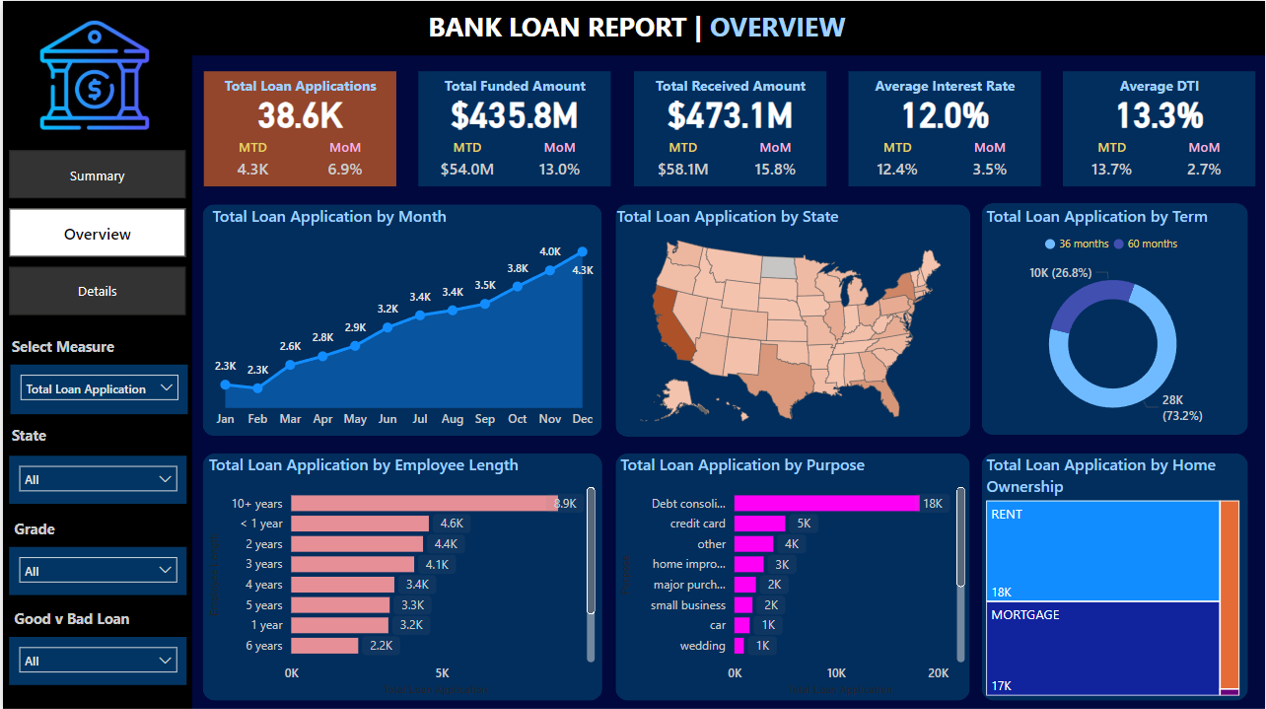

What the dashboard file says about the page in this screenshot:
{"tool":"powerbi","page":{"name":"Overview","canvas":[1280,720],"ordinal":1},"visuals":[{"type":"shape","box":[203.9,71.2,195.4,117],"z":0,"group":"g1"},{"type":"shape","box":[421.7,71.2,195.4,117],"z":0,"group":"g2"},{"type":"shape","box":[639.4,71.2,195.4,117],"z":0,"group":"g3"},{"type":"shape","box":[857.2,71.2,195.4,117],"z":0,"group":"g4"},{"type":"shape","box":[1074.9,71.2,195.4,117],"z":0,"group":"g5"},{"type":"shape","box":[202.7,206.3,405,235],"z":0},{"type":"shape","box":[0,0,1280,55.5],"z":1000},{"type":"card","fields":{"Values":["bank_loan bank_loan_data.Total Loan Application"]},"box":[203.9,85.7,195.4,53.1],"z":1000,"group":"g1"},{"type":"card","fields":{"Values":["bank_loan bank_loan_data.Total Funded Amount"]},"box":[421.7,85.7,195.4,53.1],"z":1000,"group":"g2"},{"type":"card","fields":{"Values":["bank_loan bank_loan_data.Total Amount Received"]},"box":[639.4,85.7,195.4,53.1],"z":1000,"group":"g3"},{"type":"card","fields":{"Values":["bank_loan bank_loan_data.Avg int rate"]},"box":[857.2,85.7,195.4,53.1],"z":1000,"group":"g4"},{"type":"card","fields":{"Values":["bank_loan bank_loan_data.Avg DTI"]},"box":[1074.9,85.7,195.4,53.1],"z":1000,"group":"g5"},{"type":"shape","box":[0,55.5,191.8,664.7],"z":2000},{"type":"textbox","box":[211.1,71.2,181,39.8],"z":2000,"group":"g1"},{"type":"textbox","box":[428.9,71.2,181,39.8],"z":2000,"group":"g2"},{"type":"textbox","box":[646.6,71.2,181,39.8],"z":2000,"group":"g3"},{"type":"textbox","box":[864.4,71.2,181,39.8],"z":2000,"group":"g4"},{"type":"textbox","box":[1082.1,71.2,181,39.8],"z":2000,"group":"g5"},{"type":"textbox","box":[425.9,2.4,447.6,49.5],"z":3000},{"type":"card","title":"MTD","fields":{"Values":["bank_loan bank_loan_data.MTD Loan Application"]},"box":[212.3,138.8,82,49.5],"z":3000,"group":"g1"},{"type":"card","title":"MTD","fields":{"Values":["bank_loan bank_loan_data.MTD Funded Amount"]},"box":[430.1,138.8,82,49.5],"z":3000,"group":"g2"},{"type":"card","title":"MTD","fields":{"Values":["bank_loan bank_loan_data.MTD Received Amount"]},"box":[647.8,138.8,82,49.5],"z":3000,"group":"g3"},{"type":"card","title":"MTD","fields":{"Values":["bank_loan bank_loan_data.MTD Avg int rate"]},"box":[865.6,138.8,82,49.5],"z":3000,"group":"g4"},{"type":"card","title":"MTD","fields":{"Values":["bank_loan bank_loan_data.MTD DTI"]},"box":[1083.3,138.8,82,49.5],"z":3000,"group":"g5"},{"type":"group","id":"g1","title":"Group 1","box":[203.9,71.2,195.4,117],"z":4000},{"type":"card","title":"MoM","fields":{"Values":["bank_loan bank_loan_data.MoM Loan Application"]},"box":[306.4,138.8,82,49.5],"z":4000,"group":"g1"},{"type":"card","title":"MoM","fields":{"Values":["bank_loan bank_loan_data.MoM Funded Apllication"]},"box":[524.2,138.8,82,49.5],"z":4000,"group":"g2"},{"type":"card","title":"MoM","fields":{"Values":["bank_loan bank_loan_data.MoM Received Amount"]},"box":[741.9,138.8,82,49.5],"z":4000,"group":"g3"},{"type":"card","title":"MoM","fields":{"Values":["bank_loan bank_loan_data.MoM Avg int rate"]},"box":[959.7,138.8,82,49.5],"z":4000,"group":"g4"},{"type":"card","title":"MoM","fields":{"Values":["bank_loan bank_loan_data.MoM Avg DTI"]},"box":[1177.4,138.8,82,49.5],"z":4000,"group":"g5"},{"type":"group","id":"g2","title":"Group 1","box":[421.7,71.2,195.4,117],"z":5000},{"type":"group","id":"g3","title":"Group 1","box":[639.4,71.2,195.4,117],"z":6000},{"type":"group","id":"g4","title":"Group 1","box":[857.2,71.2,195.4,117],"z":7000},{"type":"group","id":"g5","title":"Group 1","box":[1074.9,71.2,195.4,117],"z":8000},{"type":"slicer","fields":{"Values":["bank_loan bank_loan_data.address_state"]},"box":[6,461.1,180,48.6],"z":9000},{"type":"textbox","box":[3.2,425.4,90,34.3],"z":10000},{"type":"slicer","fields":{"Values":["bank_loan bank_loan_data.grade"]},"box":[6,554.1,180,48.6],"z":11000},{"type":"textbox","box":[6,519.9,90,34.3],"z":12000},{"type":"slicer","fields":{"Values":["bank_loan bank_loan_data.Good v Bad Loan"]},"box":[5.7,645.4,180,48.6],"z":13000},{"type":"textbox","box":[6,611.7,141.2,33.8],"z":14000},{"type":"areaChart","fields":{"Y":["bank_loan bank_loan_data.Total Loan Application"],"Category":["Date Table.Month"]},"box":[207.1,205.7,398.6,235.7],"z":15000},{"type":"slicer","fields":{"Values":["Select Measure.Select Measure"]},"box":[7.1,368.7,180,50],"z":16000},{"type":"textbox","box":[4.2,334.4,144.3,34.3],"z":17000},{"type":"shape","box":[621.4,205.7,360,235.7],"z":18000},{"type":"shapeMap","fields":{"Value":["bank_loan bank_loan_data.Total Loan Application"],"Category":["bank_loan bank_loan_data.address_state"]},"box":[617.7,206.3,363.1,235.3],"z":19000},{"type":"shape","box":[992.9,205.1,270.2,235.3],"z":20000},{"type":"donutChart","fields":{"Y":["bank_loan bank_loan_data.Total Loan Application"],"Category":["bank_loan bank_loan_data.term"]},"box":[992.9,206.3,266.6,234],"z":21000},{"type":"shape","box":[202.7,458.4,405.4,250.9],"z":22000},{"type":"barChart","fields":{"Y":["bank_loan bank_loan_data.Total Loan Application"],"Category":["bank_loan bank_loan_data.emp_length"]},"box":[203.9,458.4,401.7,250.9],"z":23000},{"type":"shape","box":[621.3,458.4,359.5,250.9],"z":24000},{"type":"barChart","fields":{"Y":["bank_loan bank_loan_data.Total Loan Application"],"Category":["bank_loan bank_loan_data.purpose"]},"box":[621.3,458.4,359.5,250.9],"z":25000},{"type":"shape","box":[992.9,458.4,270.2,250.9],"z":26000},{"type":"treemap","fields":{"Values":["bank_loan bank_loan_data.Total Loan Application"],"Group":["bank_loan bank_loan_data.home_ownership"]},"box":[992.9,458.4,266.6,250.9],"z":27000},{"type":"image","box":[25.3,0,136.3,150.8],"z":27001},{"type":"pageNavigator","box":[6,150.8,179.8,168.9],"z":27002}]}

Visuals, with their boxes in screenshot pixels (x1, y1, x2, y2), scaled from the page's 1280x720 canvas onto the 1266x709 screenshot:
shape: <bbox>202, 70, 395, 185</bbox>
shape: <bbox>417, 70, 610, 185</bbox>
shape: <bbox>632, 70, 826, 185</bbox>
shape: <bbox>848, 70, 1041, 185</bbox>
shape: <bbox>1063, 70, 1256, 185</bbox>
shape: <bbox>200, 203, 601, 435</bbox>
shape: <bbox>0, 0, 1265, 55</bbox>
card - bank_loan bank_loan_data.Total Loan Application: <bbox>202, 84, 395, 137</bbox>
card - bank_loan bank_loan_data.Total Funded Amount: <bbox>417, 84, 610, 137</bbox>
card - bank_loan bank_loan_data.Total Amount Received: <bbox>632, 84, 826, 137</bbox>
card - bank_loan bank_loan_data.Avg int rate: <bbox>848, 84, 1041, 137</bbox>
card - bank_loan bank_loan_data.Avg DTI: <bbox>1063, 84, 1256, 137</bbox>
shape: <bbox>0, 55, 190, 708</bbox>
textbox: <bbox>209, 70, 388, 109</bbox>
textbox: <bbox>424, 70, 603, 109</bbox>
textbox: <bbox>640, 70, 819, 109</bbox>
textbox: <bbox>855, 70, 1034, 109</bbox>
textbox: <bbox>1070, 70, 1249, 109</bbox>
textbox: <bbox>421, 2, 864, 51</bbox>
"MTD" card: <bbox>210, 137, 291, 185</bbox>
"MTD" card: <bbox>425, 137, 506, 185</bbox>
"MTD" card: <bbox>641, 137, 722, 185</bbox>
"MTD" card: <bbox>856, 137, 937, 185</bbox>
"MTD" card: <bbox>1071, 137, 1153, 185</bbox>
"Group 1" group: <bbox>202, 70, 395, 185</bbox>
"MoM" card: <bbox>303, 137, 384, 185</bbox>
"MoM" card: <bbox>518, 137, 600, 185</bbox>
"MoM" card: <bbox>734, 137, 815, 185</bbox>
"MoM" card: <bbox>949, 137, 1030, 185</bbox>
"MoM" card: <bbox>1165, 137, 1246, 185</bbox>
"Group 1" group: <bbox>417, 70, 610, 185</bbox>
"Group 1" group: <bbox>632, 70, 826, 185</bbox>
"Group 1" group: <bbox>848, 70, 1041, 185</bbox>
"Group 1" group: <bbox>1063, 70, 1256, 185</bbox>
slicer - bank_loan bank_loan_data.address_state: <bbox>6, 454, 184, 502</bbox>
textbox: <bbox>3, 419, 92, 453</bbox>
slicer - bank_loan bank_loan_data.grade: <bbox>6, 546, 184, 593</bbox>
textbox: <bbox>6, 512, 95, 546</bbox>
slicer - bank_loan bank_loan_data.Good v Bad Loan: <bbox>6, 636, 184, 683</bbox>
textbox: <bbox>6, 602, 146, 636</bbox>
areaChart - bank_loan bank_loan_data.Total Loan Application x Date Table.Month: <bbox>205, 203, 599, 435</bbox>
slicer - Select Measure.Select Measure: <bbox>7, 363, 185, 412</bbox>
textbox: <bbox>4, 329, 147, 363</bbox>
shape: <bbox>615, 203, 971, 435</bbox>
shapeMap - bank_loan bank_loan_data.Total Loan Application x bank_loan bank_loan_data.address_state: <bbox>611, 203, 970, 435</bbox>
shape: <bbox>982, 202, 1249, 434</bbox>
donutChart - bank_loan bank_loan_data.Total Loan Application x bank_loan bank_loan_data.term: <bbox>982, 203, 1246, 434</bbox>
shape: <bbox>200, 451, 601, 698</bbox>
barChart - bank_loan bank_loan_data.Total Loan Application x bank_loan bank_loan_data.emp_length: <bbox>202, 451, 599, 698</bbox>
shape: <bbox>615, 451, 970, 698</bbox>
barChart - bank_loan bank_loan_data.Total Loan Application x bank_loan bank_loan_data.purpose: <bbox>615, 451, 970, 698</bbox>
shape: <bbox>982, 451, 1249, 698</bbox>
treemap - bank_loan bank_loan_data.Total Loan Application x bank_loan bank_loan_data.home_ownership: <bbox>982, 451, 1246, 698</bbox>
image: <bbox>25, 0, 160, 148</bbox>
pageNavigator: <bbox>6, 148, 184, 315</bbox>
